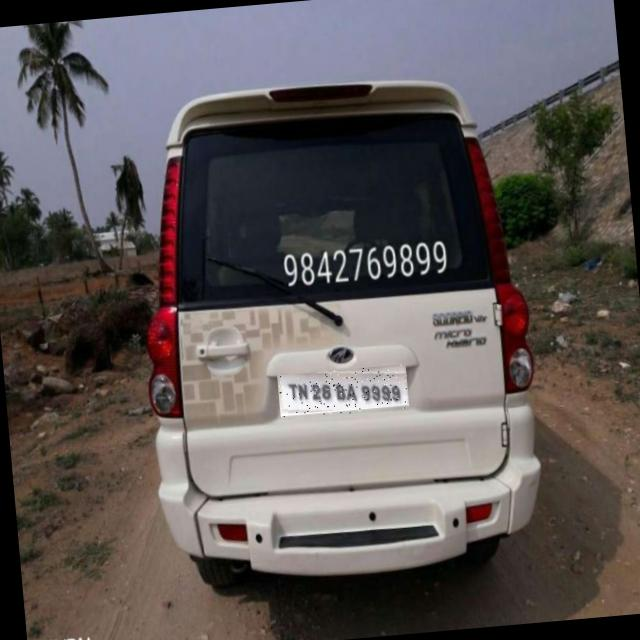Plate: (278, 366, 410, 421)
